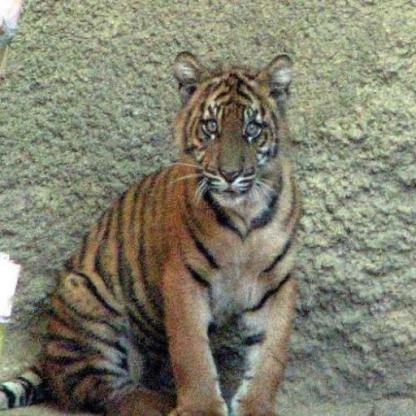Tiger: (26, 39, 307, 415)
